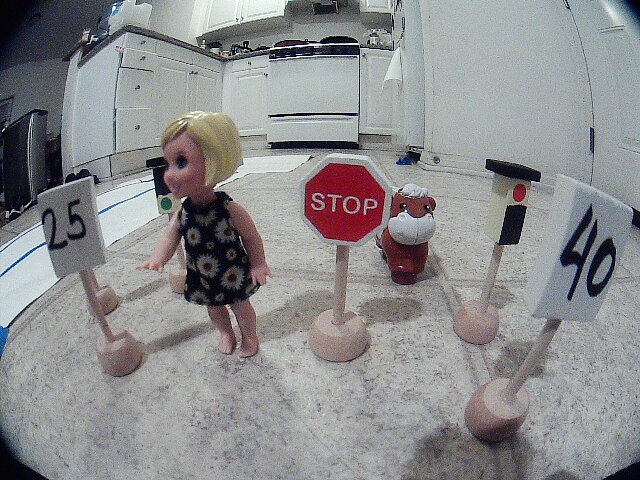Cow: (391, 183, 442, 297)
Green Traffic Light: (140, 151, 177, 217)
Person: (158, 130, 270, 356)
Red Traffic Light: (480, 156, 538, 256)
Speed Limit 25: (26, 184, 132, 282)
Speed Limit 40: (547, 160, 636, 342)
Stop Sign: (284, 153, 392, 256)
